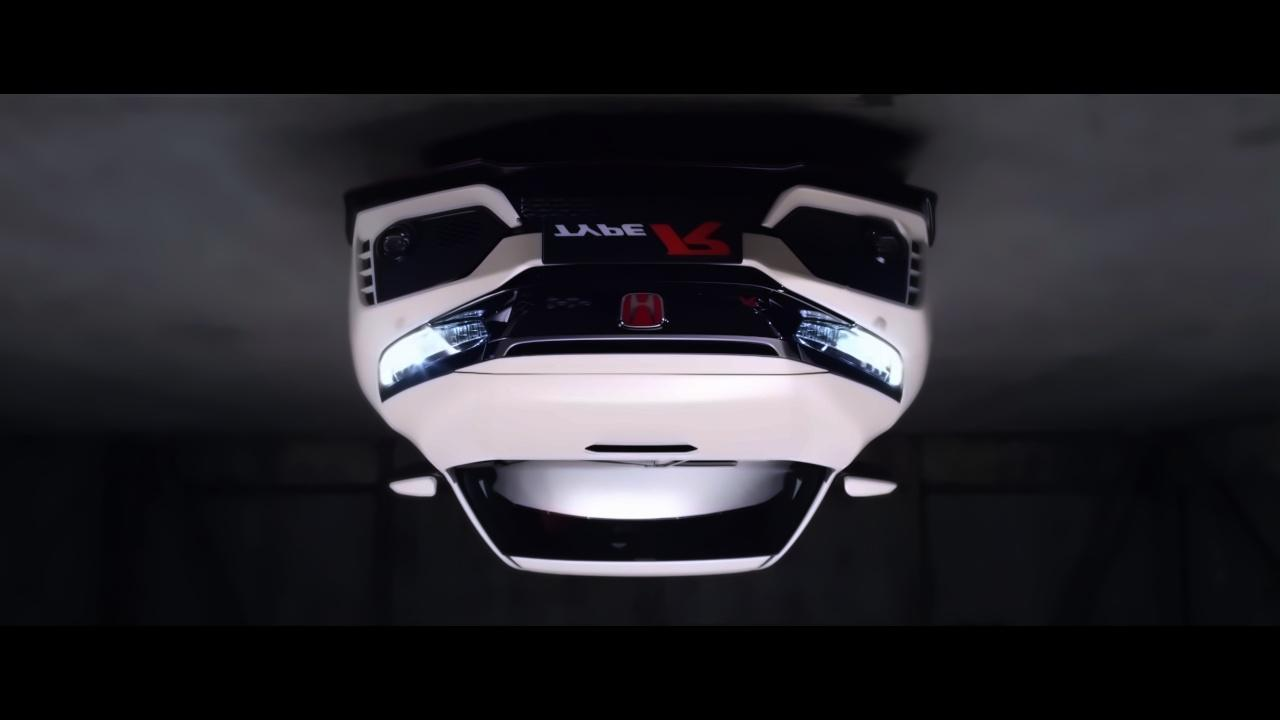Car hood: (373, 342, 903, 471)
Front bumper: (326, 166, 944, 346)
Headlight - -L-: (379, 289, 519, 401)
Headlight - -R-: (788, 298, 903, 403)
Side mirror - -L-: (389, 463, 443, 503)
Side mirror - -R-: (829, 468, 900, 503)
